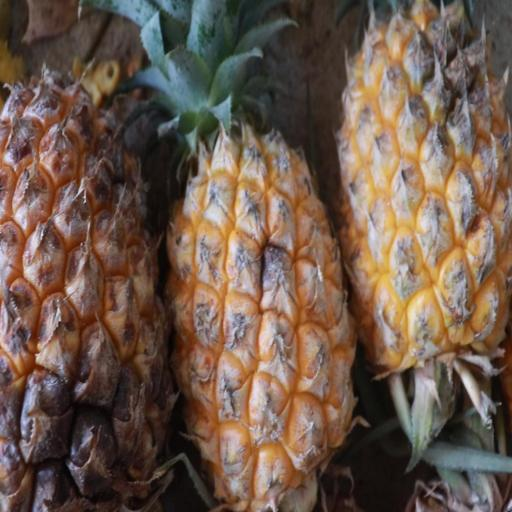Pineapple - v8 v1: (162, 50, 355, 512), (0, 59, 176, 512), (334, 0, 511, 384)
